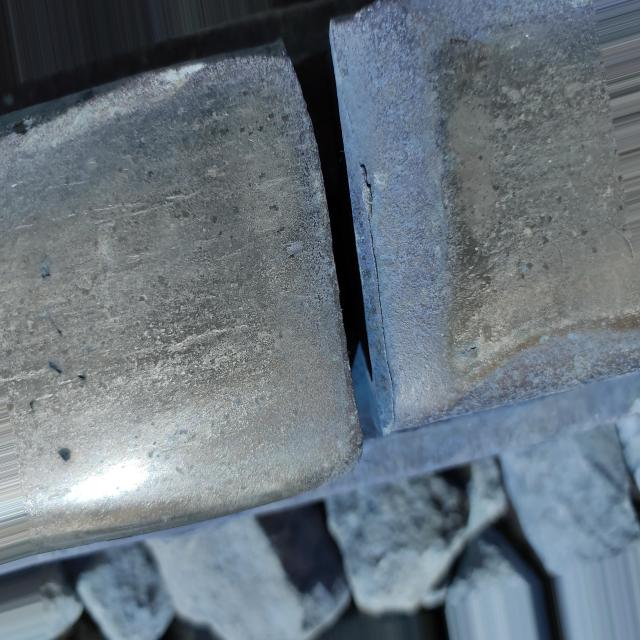crack: (220, 0, 497, 477)
